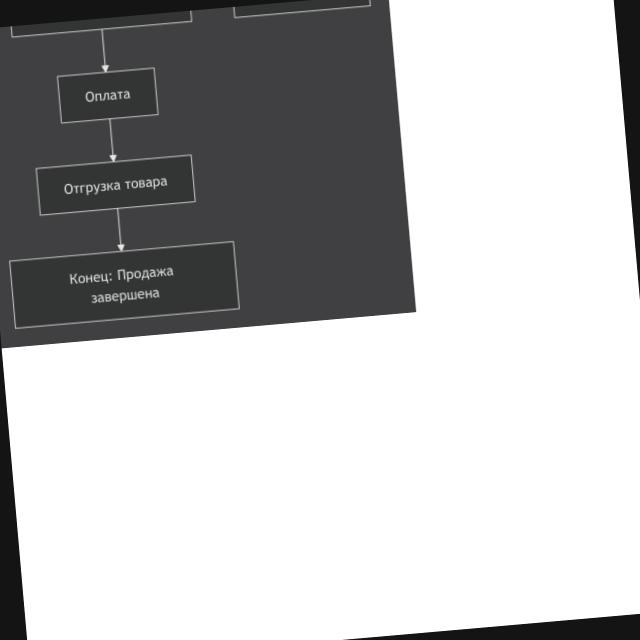arrow: (101, 30, 109, 72), (109, 119, 116, 162), (117, 209, 124, 251)
rectangle: (9, 242, 238, 328), (36, 155, 195, 215), (57, 68, 158, 123)
